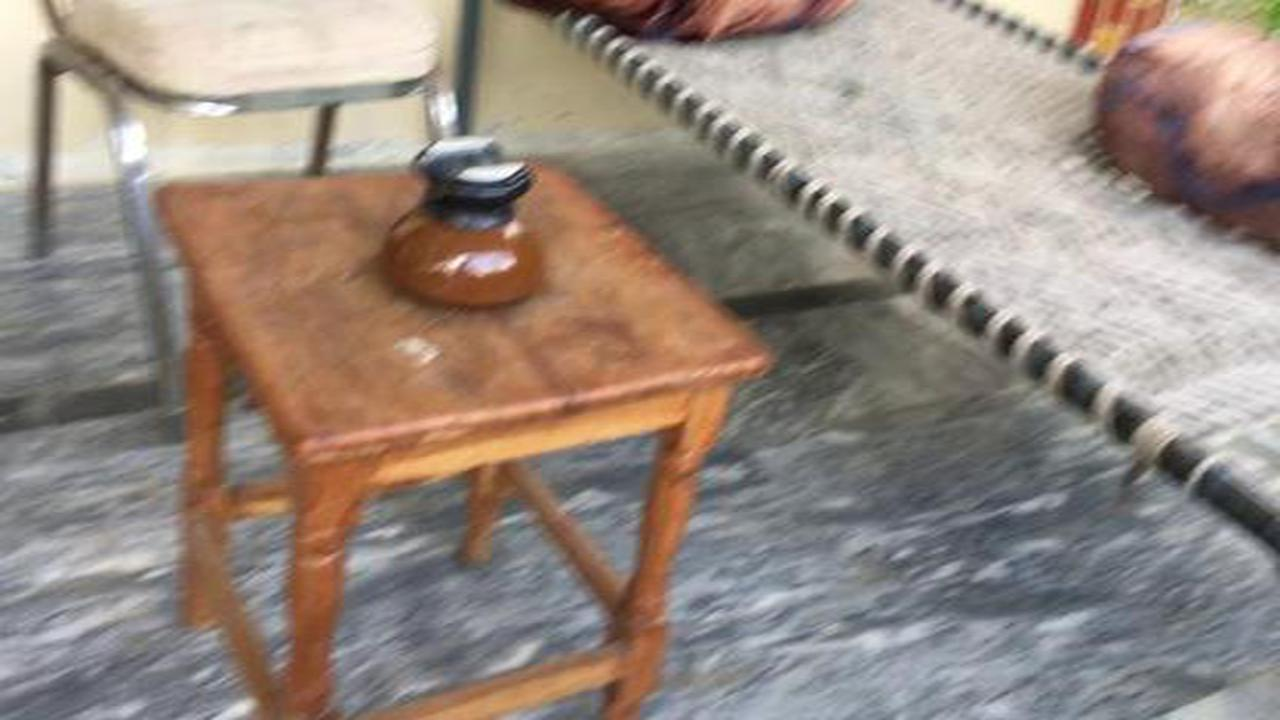insulator_pin: (354, 116, 573, 321)
